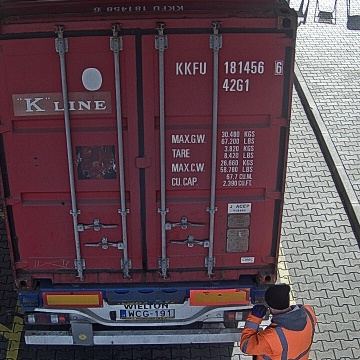serial_id: (175, 61, 282, 75)
